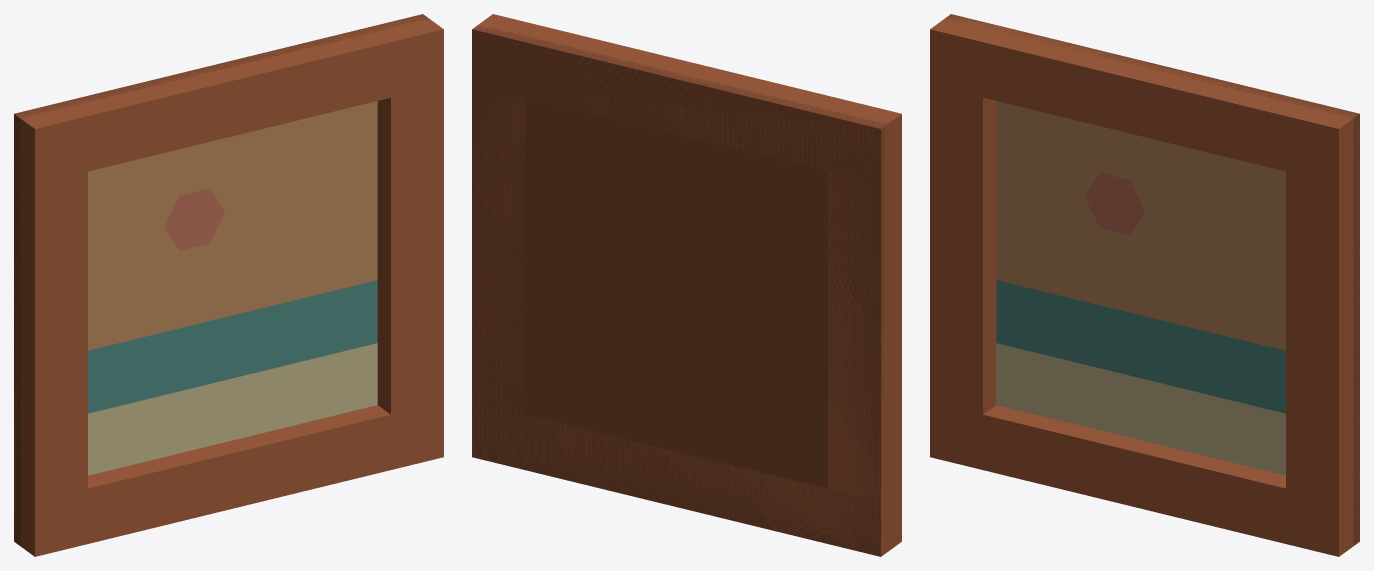
File: picture-frame-20.glb
The picture shows the model from 3 angles, left to right: view 1: azimuth 30°, elevation 25°; view 2: azimuth 150°, elevation 25°; view 3: azimuth 330°, elevation 25°; orthographic projection.
Parts seen in each view (by area): view 1: picture_frame_20; view 2: picture_frame_20; view 3: picture_frame_20.
Part boxes in pixels (x1,y1,x2,y2): picture_frame_20: [14, 14, 443, 556]; picture_frame_20: [472, 14, 901, 556]; picture_frame_20: [930, 14, 1359, 556].
Bounding box in the file's own units: 0.4273 × 0.4273 × 0.0379.
